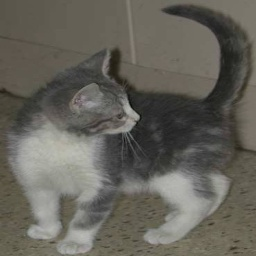cat: (9, 2, 253, 251)
